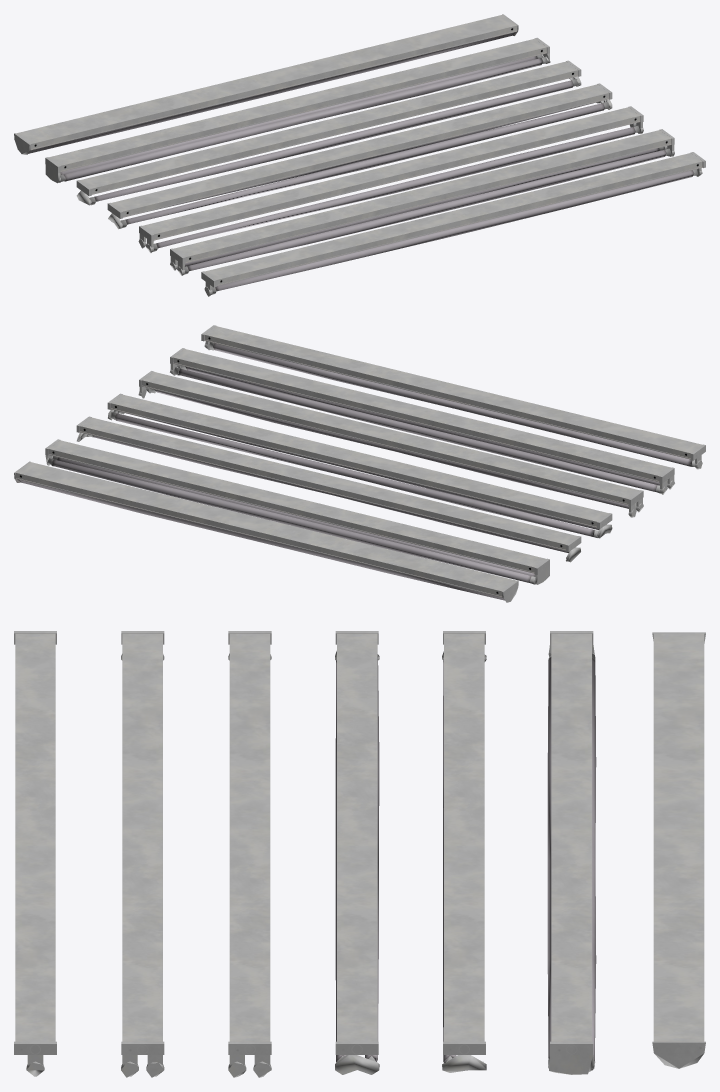
Rendered from mounted_fluorescent_lights.glb.
3 renders of one model, top to bottom at view 1: azimuth 30°, elevation 25°; view 2: azimuth 150°, elevation 25°; view 3: azimuth 270°, elevation 25°, orthographic. The views are drawn at different scales.
Parts seen in each view (by area): view 1: mounted_fluorescent_lights_b, mounted_fluorescent_lights_f, mounted_fluorescent_lights_d, mounted_fluorescent_lights_e, mounted_fluorescent_lights_c, mounted_fluorescent_lights_a, mounted_fluorescent_lights_g; view 2: mounted_fluorescent_lights_f, mounted_fluorescent_lights_b, mounted_fluorescent_lights_d, mounted_fluorescent_lights_a, mounted_fluorescent_lights_g, mounted_fluorescent_lights_c, mounted_fluorescent_lights_e; view 3: mounted_fluorescent_lights_g, mounted_fluorescent_lights_f, mounted_fluorescent_lights_d, mounted_fluorescent_lights_c, mounted_fluorescent_lights_e, mounted_fluorescent_lights_b, mounted_fluorescent_lights_a.
Boxes of the visible parts, x1,y1,x2,y2 form: mounted_fluorescent_lights_b: (170, 129, 674, 275); mounted_fluorescent_lights_f: (45, 37, 550, 183); mounted_fluorescent_lights_d: (107, 83, 612, 229); mounted_fluorescent_lights_e: (76, 60, 581, 205); mounted_fluorescent_lights_c: (138, 106, 643, 252); mounted_fluorescent_lights_a: (201, 152, 705, 296); mounted_fluorescent_lights_g: (14, 14, 518, 154); mounted_fluorescent_lights_f: (45, 439, 549, 584); mounted_fluorescent_lights_b: (170, 348, 674, 494); mounted_fluorescent_lights_d: (107, 393, 612, 538); mounted_fluorescent_lights_a: (201, 325, 705, 469); mounted_fluorescent_lights_g: (14, 461, 518, 602); mounted_fluorescent_lights_c: (138, 371, 643, 517); mounted_fluorescent_lights_e: (76, 416, 581, 562); mounted_fluorescent_lights_g: (652, 632, 705, 1068); mounted_fluorescent_lights_f: (547, 631, 596, 1074); mounted_fluorescent_lights_d: (335, 631, 379, 1074); mounted_fluorescent_lights_c: (228, 631, 271, 1077); mounted_fluorescent_lights_e: (442, 631, 486, 1072); mounted_fluorescent_lights_b: (121, 631, 164, 1077); mounted_fluorescent_lights_a: (14, 631, 56, 1076).
Size of the model in its own units: 0.9122 by 0.0351 by 0.6454.
Materials: 2 (2 with a texture image).
